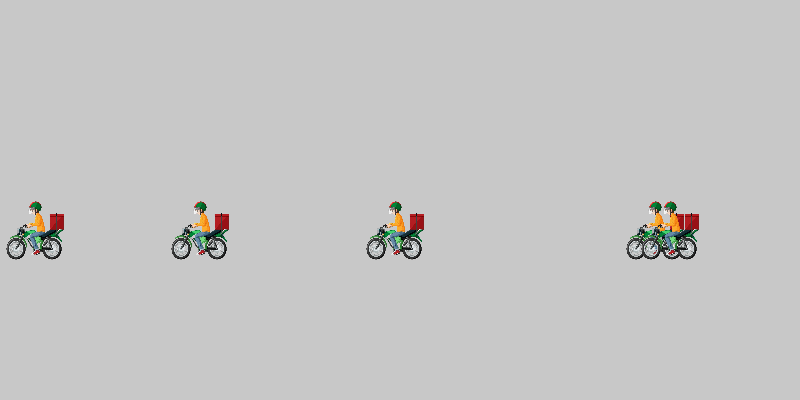helmet: (5, 200, 65, 260), (170, 200, 230, 260), (365, 200, 425, 260), (625, 200, 685, 260), (640, 200, 700, 260)
